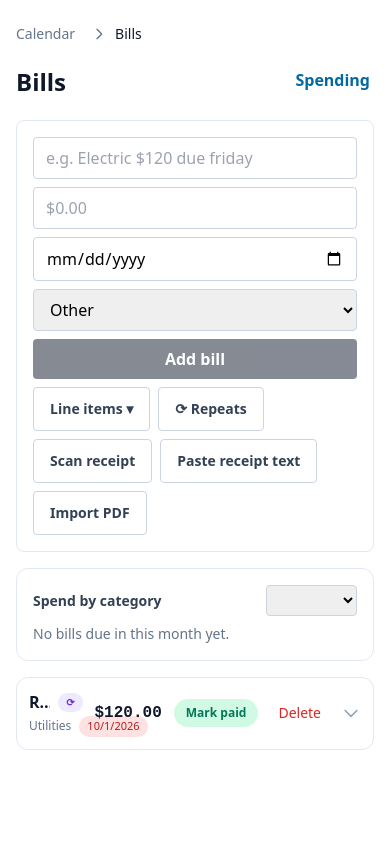
Test: recurring bills (#006) › marks a recurring bill row with the ⟳ badge and detail line
The image size is (390, 844).
Check: the text "⟳" is shown, box [58,692,82,712]
Click the button named "Show details for Rent" at (351, 713), box [341,691,361,735]
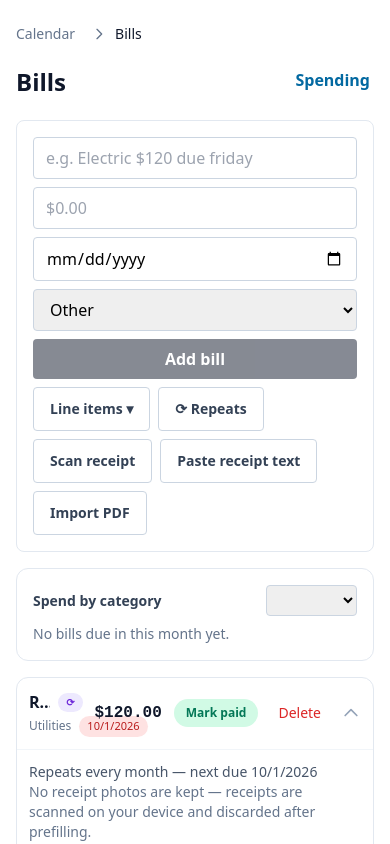
Check: the text "Repeats every month — next due 10/1/2026" is shown, box [29,762,361,782]
